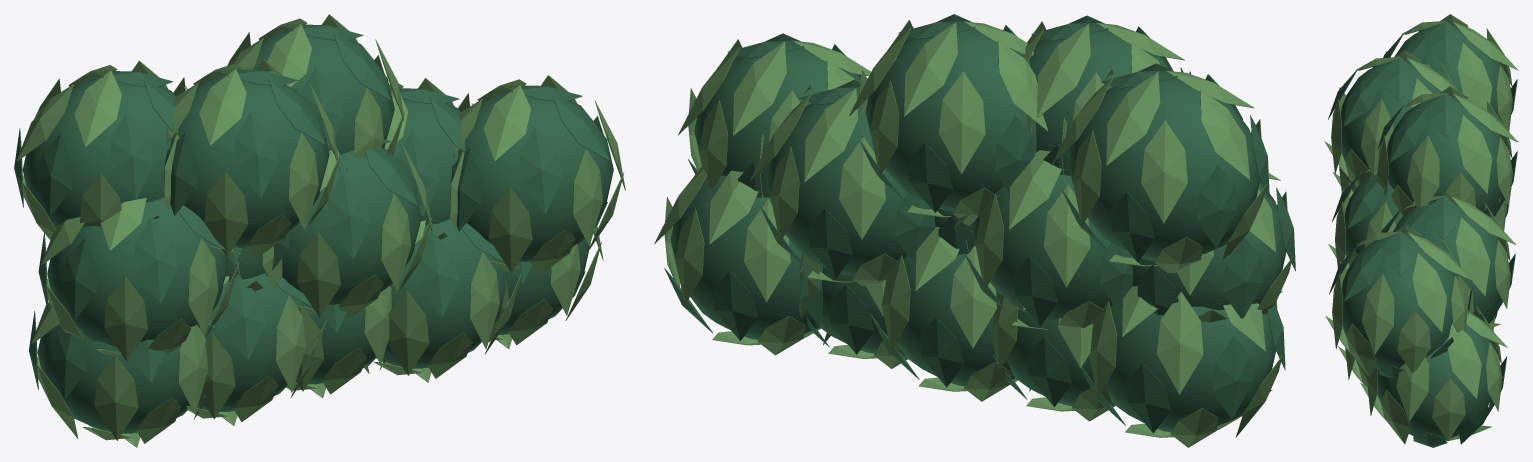
Rendered from hedge.glb.
3 renders of one model, left to right at view 1: azimuth 30°, elevation 25°; view 2: azimuth 150°, elevation 25°; view 3: azimuth 270°, elevation 25°, orthographic. The views are drawn at different scales.
Parts seen in each view (by area): view 1: Lightweight_shaped_leaves.001, Lightweight_shaped_leaves, Foliage_core.009, Foliage_core.011, Foliage_core.005, Foliage_core.010, Foliage_core.007, Foliage_core, Foliage_core.003, Foliage_core.012, Foliage_core.001, Foliage_core.008 (+3 smaller); view 2: Lightweight_shaped_leaves.001, Lightweight_shaped_leaves, Foliage_core.010, Foliage_core.012, Foliage_core, Foliage_core.008, Foliage_core.004, Foliage_core.006, Foliage_core.009, Foliage_core.002, Foliage_core.011, Foliage_core.005 (+2 smaller); view 3: Lightweight_shaped_leaves.001, Lightweight_shaped_leaves, Foliage_core.009, Foliage_core.012, Foliage_core.004, Foliage_core.011, Foliage_core.008, Foliage_core.010, Foliage_core.007.
Part boxes in pixels (box(x1,y1,x2,y2)): Lightweight_shaped_leaves.001: box(16, 14, 625, 447); Lightweight_shaped_leaves: box(14, 24, 610, 417); Foliage_core.009: box(457, 90, 613, 261); Foliage_core.011: box(170, 74, 329, 249); Foliage_core.005: box(47, 197, 228, 347); Foliage_core.010: box(22, 76, 175, 227); Foliage_core.007: box(282, 148, 421, 304); Foliage_core: box(37, 324, 202, 433); Foliage_core.003: box(375, 219, 507, 368); Foliage_core.012: box(252, 29, 394, 154); Foliage_core.001: box(197, 273, 308, 411); Foliage_core.008: box(393, 98, 460, 225); Lightweight_shaped_leaves.001: box(654, 19, 1292, 447); Lightweight_shaped_leaves: box(664, 14, 1295, 433); Foliage_core.010: box(1067, 78, 1260, 261); Foliage_core.012: box(865, 28, 1036, 211); Foliage_core: box(1106, 304, 1275, 432); Foliage_core.008: box(766, 103, 908, 275); Foliage_core.004: box(670, 175, 819, 339); Foliage_core.006: box(970, 175, 1113, 320); Foliage_core.009: box(694, 48, 860, 175); Foliage_core.002: box(896, 253, 1015, 386); Foliage_core.011: box(1029, 30, 1170, 154); Foliage_core.005: box(1132, 181, 1286, 310); Lightweight_shaped_leaves.001: box(1324, 14, 1518, 443); Lightweight_shaped_leaves: box(1328, 20, 1517, 447); Foliage_core.009: box(1341, 235, 1455, 369); Foliage_core.012: box(1387, 96, 1501, 211); Foliage_core.004: box(1377, 325, 1491, 440); Foliage_core.011: box(1340, 60, 1441, 174); Foliage_core.008: box(1393, 202, 1499, 316); Foliage_core.010: box(1395, 24, 1501, 121); Foliage_core.007: box(1344, 174, 1402, 263).
Bounding box in the file's own units: 1.3 × 0.7933 × 0.5017.
